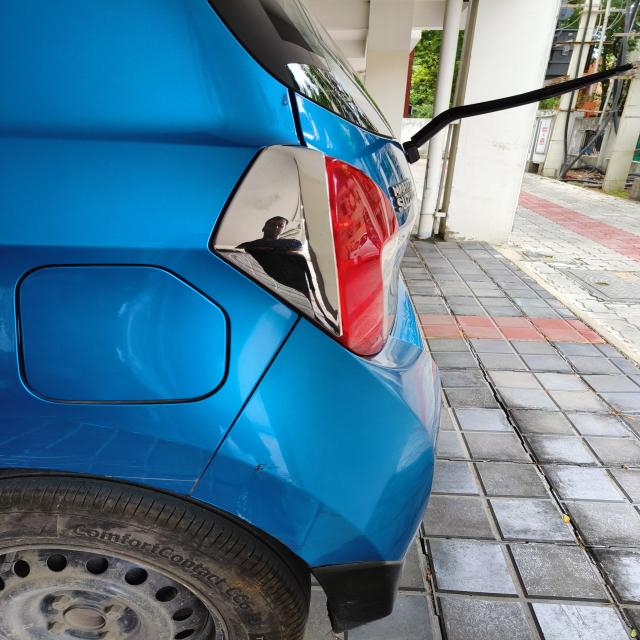scratch: (0, 450, 200, 489), (232, 461, 306, 529), (308, 505, 348, 526), (273, 536, 322, 552)
